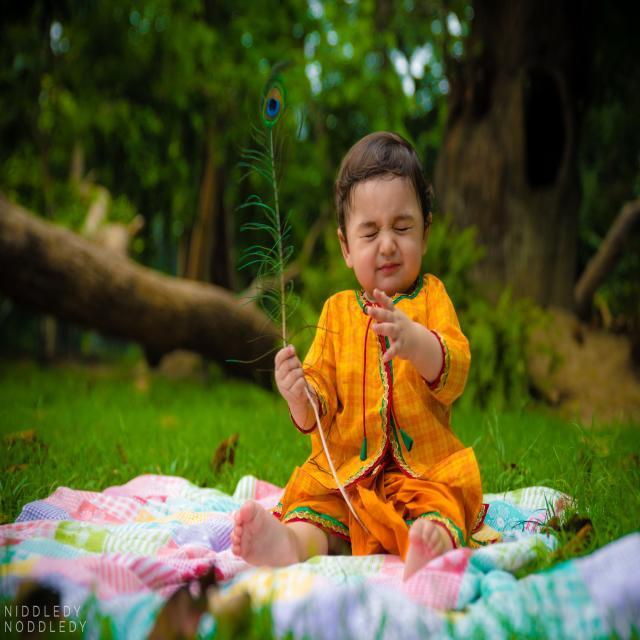non-dog: (228, 132, 489, 580)
